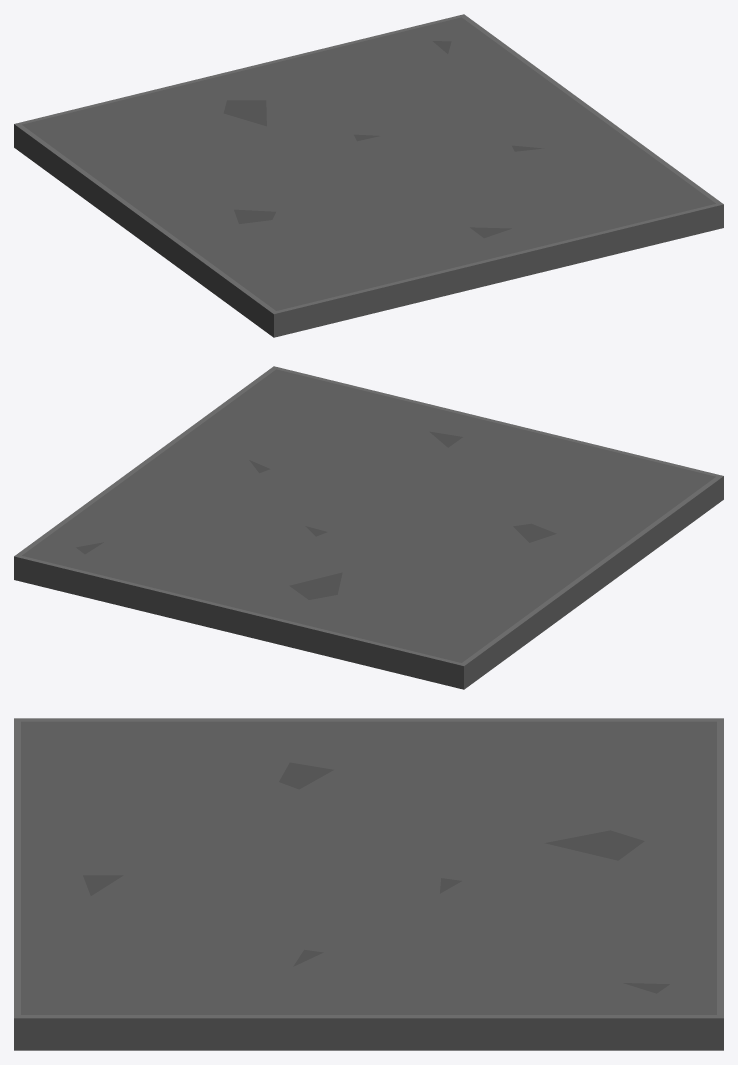
The model's file is ConcrateSlabs_B_1_2.fbx.
3 views of the same model, one above another, from view 1: azimuth 30°, elevation 25°; view 2: azimuth 150°, elevation 25°; view 3: azimuth 270°, elevation 25° (orthographic). The views are drawn at different scales.
Visible parts, largest first — view 1: ConcrateSlabs_B_1_2; view 2: ConcrateSlabs_B_1_2; view 3: ConcrateSlabs_B_1_2.
Part boxes in pixels (x1,y1,x2,y2): ConcrateSlabs_B_1_2: (14,14,723,337); ConcrateSlabs_B_1_2: (14,366,723,689); ConcrateSlabs_B_1_2: (14,718,723,1050).
Size of the model in its own units: 800 by 40 by 800.
